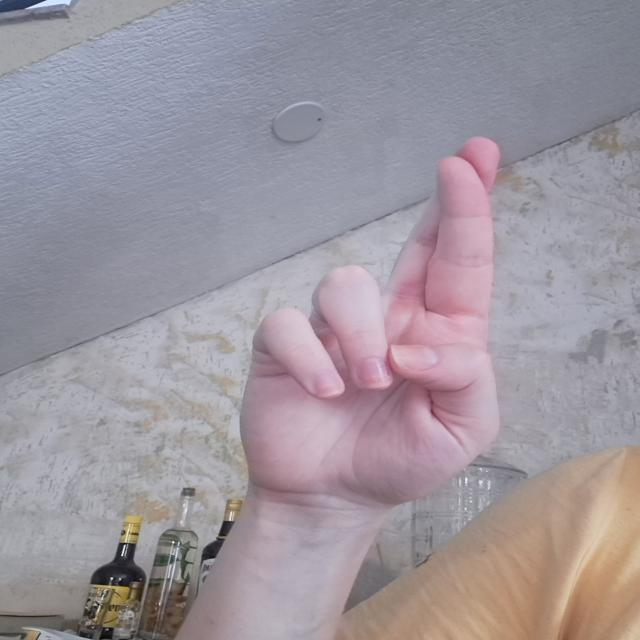R: (222, 131, 526, 510)
